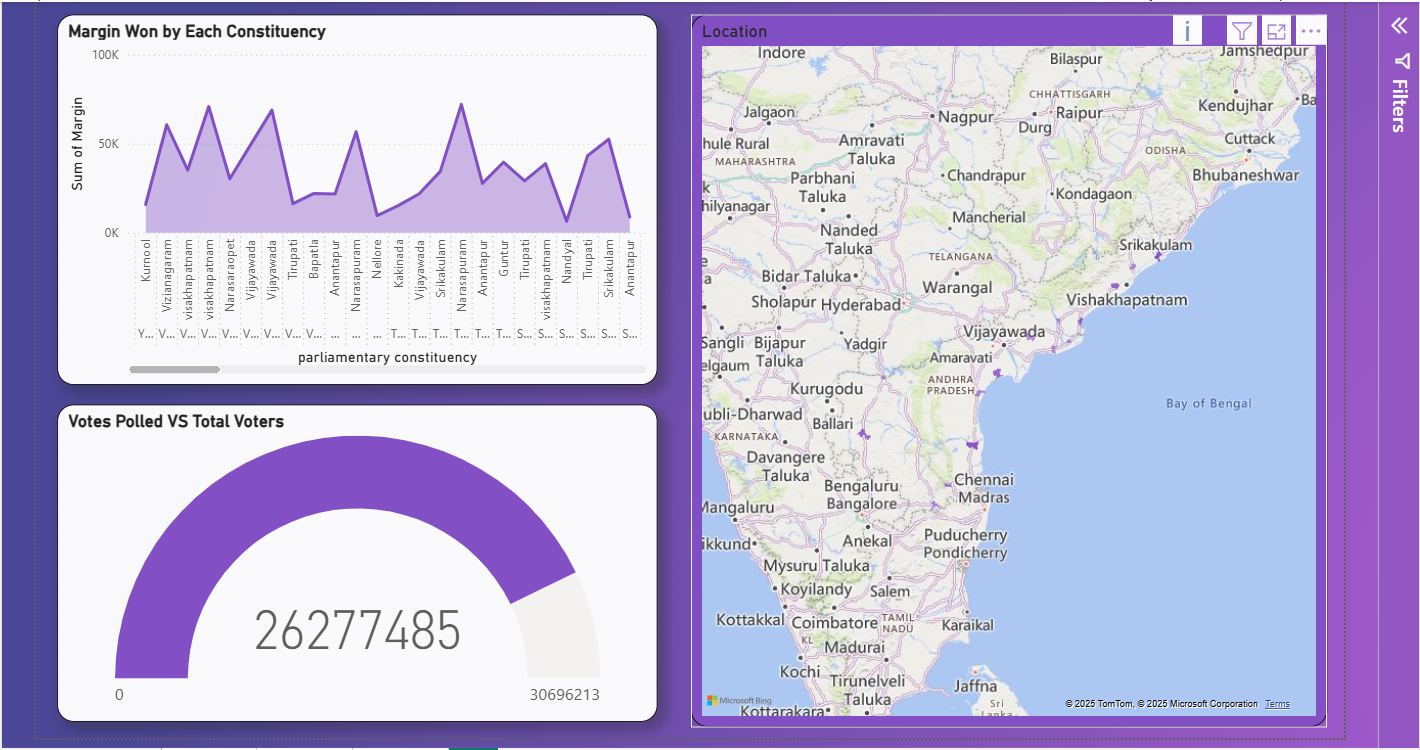

Layout of this report page (visuals, bound fields, positions):
{"tool":"powerbi","page":{"name":"Page 3","canvas":[1280,720],"ordinal":2},"visuals":[{"type":"filledMap","fields":{"Category":["Sheet1.Location"]},"box":[640.3,11.9,622.4,697],"z":2000},{"type":"stackedAreaChart","title":"Margin Won by Each  Constituency","fields":{"Category":["Sheet1.Constituency","Sheet1.parliamentary constituency"],"Y":["Sum(Sheet1.Margin)"]},"box":[20.3,12.7,587.3,362],"z":3000},{"type":"gauge","title":"Votes Polled VS Total Voters","fields":{"Y":["Sum(Sheet1.votes polled)"],"MaxValue":["Sum(Sheet1.Total voters)"]},"box":[20.3,393.7,587.3,310.1],"z":4000}]}

Visuals, with their boxes in screenshot pixels (x1, y1, x2, y2):
filledMap - Sheet1.Location: 688, 5, 1328, 721
"Margin Won by Each  Constituency" stackedAreaChart: 50, 6, 654, 378
"Votes Polled VS Total Voters" gauge: 50, 397, 654, 716
